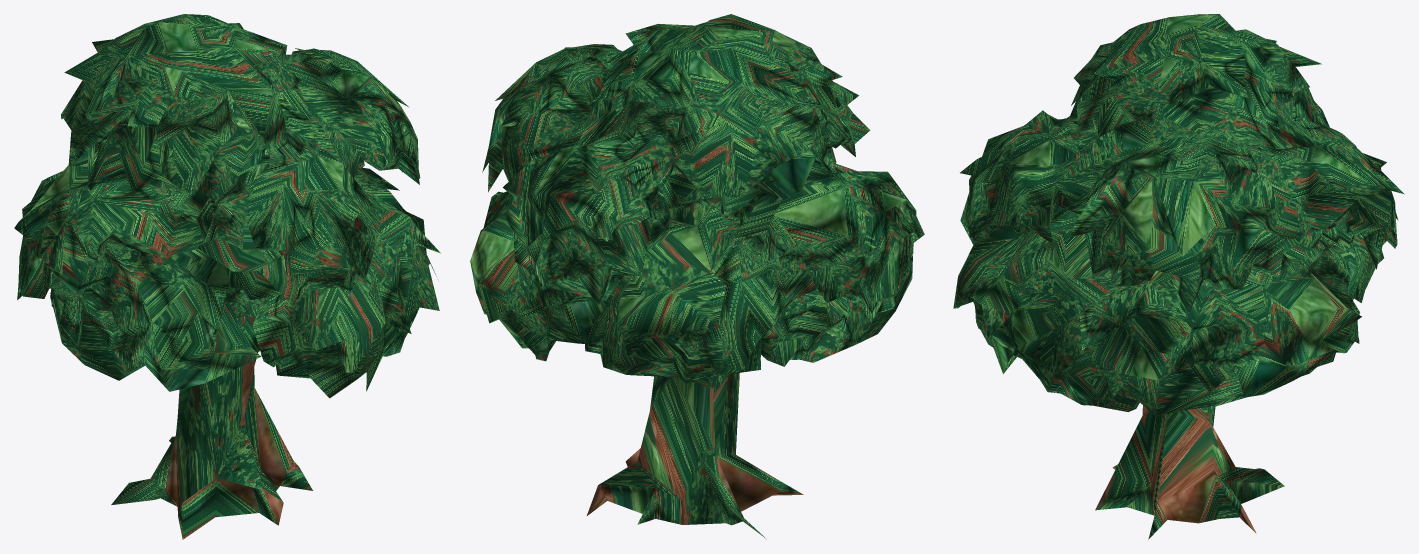
The model's file is tree.glb.
3 renders of one model, left to right at view 1: azimuth 30°, elevation 25°; view 2: azimuth 150°, elevation 25°; view 3: azimuth 270°, elevation 25°, orthographic. The views are drawn at different scales.
Bounding box in the file's own units: 1.6 × 1.87 × 1.63.
1 material, 1 textured.
